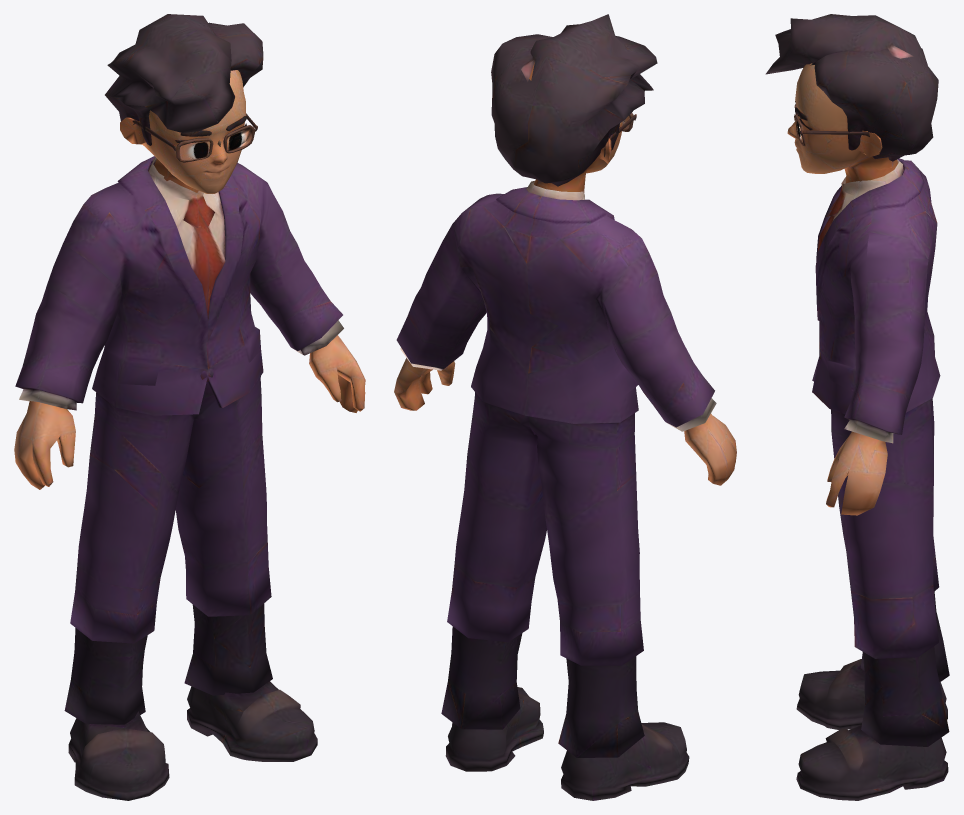
The model's file is Purple_Suit_Character.glb.
The picture shows the model from 3 angles, left to right: view 1: azimuth 30°, elevation 25°; view 2: azimuth 150°, elevation 25°; view 3: azimuth 270°, elevation 25°; orthographic projection. The views are drawn at different scales.
Parts seen in each view (by area): view 1: geometry_0; view 2: geometry_0; view 3: geometry_0.
Boxes of the visible parts, box(x1,y1,x2,y2) form: geometry_0: box(14, 14, 365, 800); geometry_0: box(394, 14, 736, 800); geometry_0: box(765, 14, 949, 800).
Bounding box in the file's own units: 0.4808 × 1 × 0.231.
Materials: 1 (1 with a texture image).
